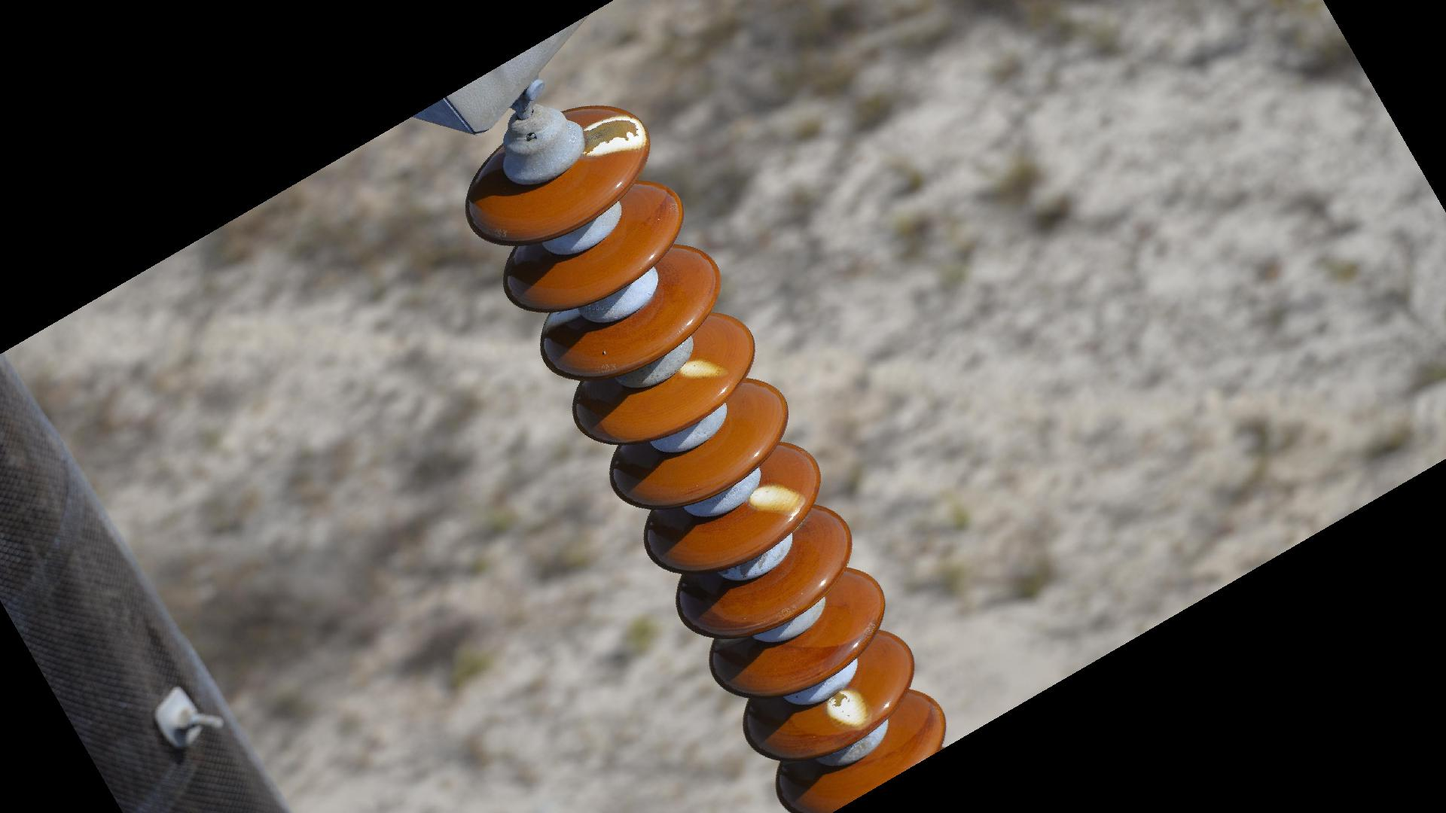insulator: (459, 99, 954, 813)
insulator_flashover: (576, 111, 650, 161), (746, 481, 808, 522), (821, 686, 875, 732), (677, 355, 731, 385)
